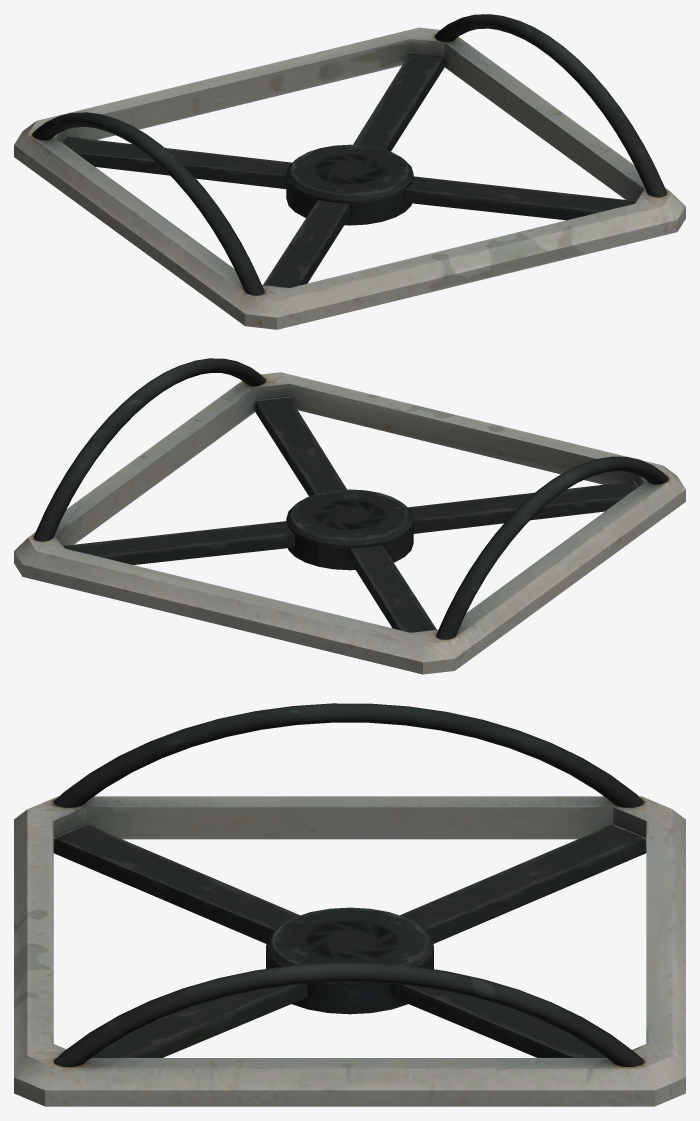
Rendered from lift_platform.obj.
3 views of the same model, one above another, from view 1: azimuth 30°, elevation 25°; view 2: azimuth 150°, elevation 25°; view 3: azimuth 270°, elevation 25° (orthographic). The views are drawn at different scales.
Parts seen in each view (by area): view 1: g0; view 2: g0; view 3: g0.
Part boxes in pixels (x1,y1,x2,y2): g0: (14,14,685,329); g0: (14,358,685,674); g0: (14,703,685,1106).
Bounding box in the file's own units: 127 × 29.92 × 127.
Materials: 1 (1 with a texture image).
